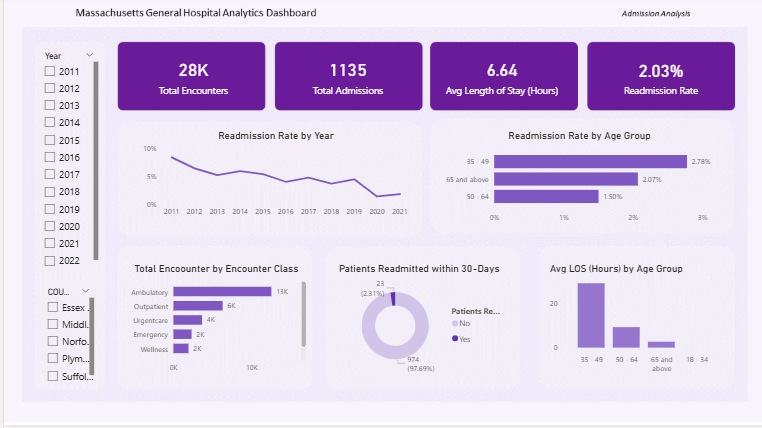

Layout of this report page (visuals, bound fields, positions):
{"tool":"powerbi","page":{"name":"ADMISSIONS","canvas":[1280,720],"ordinal":1},"visuals":[{"type":"card","fields":{"Values":["encounters.Total Admissions"]},"box":[470.3,85.7,215,95.7],"z":0},{"type":"card","fields":{"Values":["encounters.Total Encounters"]},"box":[201.6,85.7,233.5,95.7],"z":1000},{"type":"card","fields":{"Values":["encounters.Inpatient Readmission Rate"]},"box":[991.1,87.3,225.1,94.1],"z":2000},{"type":"card","fields":{"Values":["encounters.Avg Length of Stay (Hours)"]},"box":[720.6,85.7,231.8,95.7],"z":3000},{"type":"donutChart","title":" Patients Readmitted within 30-Days","fields":{"Category":["encounters.Patients Readmitted within 30-Days"],"Y":["Count(encounters.PATIENT_ID)"]},"box":[557.7,446.8,288.9,194.9],"z":4000},{"type":"clusteredColumnChart","title":"Avg LOS (Hours) by Age Group","fields":{"Category":["patients.Age Group"],"Y":["encounters.Avg Length of Stay (Hours)"]},"box":[912.1,446.8,304,194.9],"z":5000},{"type":"clusteredBarChart","title":"Readmission Rate by Age Group","fields":{"Category":["patients.Age Group"],"Y":["encounters.Inpatient Readmission Rate"]},"box":[732.4,223.4,468.7,166.3],"z":6000},{"type":"lineChart","title":"Readmission Rate by Year","fields":{"Category":["encounters.ENCOUNTER_START.Variation.Date Hierarchy.Year"],"Y":["encounters.Inpatient Readmission Rate"]},"box":[228.5,223.4,456.9,156.2],"z":7000},{"type":"clusteredBarChart","title":"Total Encoounter by Encounter Class","fields":{"Category":["encounters.ENCOUNTER_CLASS"],"Y":["encounters.Total Encounters"]},"box":[201.6,446.8,310.8,194.9],"z":8000},{"type":"slicer","fields":{"Values":["encounters.ENCOUNTER_START.Variation.Date Hierarchy.Year"]},"box":[55.4,87.3,107.5,372.9],"z":9000},{"type":"slicer","fields":{"Values":["patients.COUNTY"]},"box":[60.5,483.8,95.7,169.7],"z":10000}]}

Visuals, with their boxes in screenshot pixels (x1, y1, x2, y2), scaled from the page's 1280x720 canvas onto the 762x428 screenshot:
card - encounters.Total Admissions: [x1=280, y1=51, x2=408, y2=108]
card - encounters.Total Encounters: [x1=120, y1=51, x2=259, y2=108]
card - encounters.Inpatient Readmission Rate: [x1=590, y1=52, x2=724, y2=108]
card - encounters.Avg Length of Stay (Hours): [x1=429, y1=51, x2=567, y2=108]
" Patients Readmitted within 30-Days" donutChart: [x1=332, y1=266, x2=504, y2=381]
"Avg LOS (Hours) by Age Group" clusteredColumnChart: [x1=543, y1=266, x2=724, y2=381]
"Readmission Rate by Age Group" clusteredBarChart: [x1=436, y1=133, x2=715, y2=232]
"Readmission Rate by Year" lineChart: [x1=136, y1=133, x2=408, y2=226]
"Total Encoounter by Encounter Class" clusteredBarChart: [x1=120, y1=266, x2=305, y2=381]
slicer - encounters.ENCOUNTER_START.Variation.Date Hierarchy.Year: [x1=33, y1=52, x2=97, y2=274]
slicer - patients.COUNTY: [x1=36, y1=288, x2=93, y2=388]
